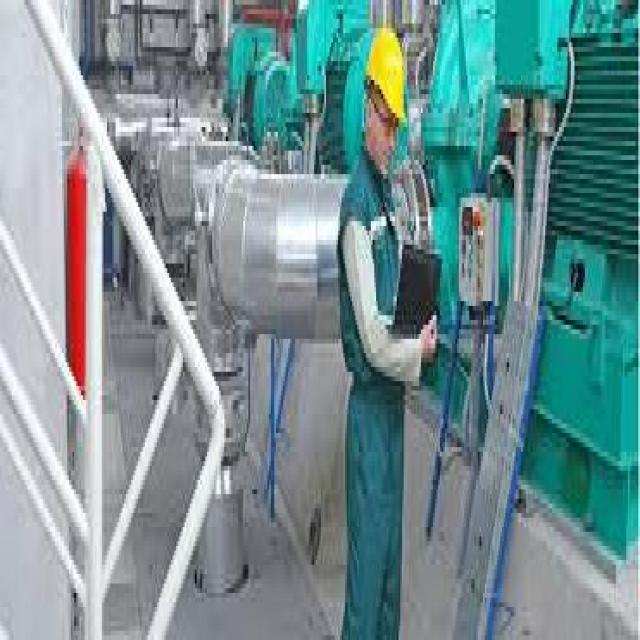Safety-Helmet: (359, 14, 414, 141)
